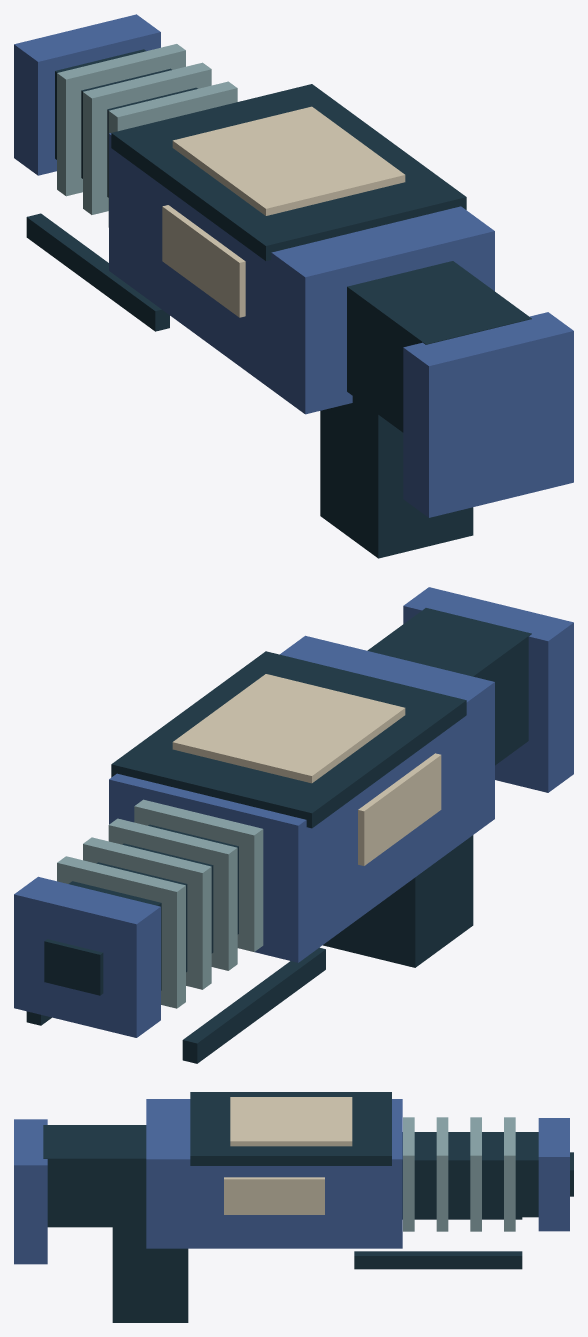
Rendered from lmg.gltf.
3 views of the same model, one above another, from view 1: azimuth 30°, elevation 25°; view 2: azimuth 150°, elevation 25°; view 3: azimuth 270°, elevation 25° (orthographic). The views are drawn at different scales.
Visible parts, largest first — view 1: lmg; view 2: lmg; view 3: lmg.
Part boxes in pixels (bbox=[...]): lmg: bbox=[14, 14, 573, 558]; lmg: bbox=[14, 587, 573, 1063]; lmg: bbox=[14, 1092, 573, 1322].
Bounding box in the file's own units: 0.362 × 0.4955 × 1.33.
